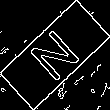N_SE: (24, 23, 86, 87)
